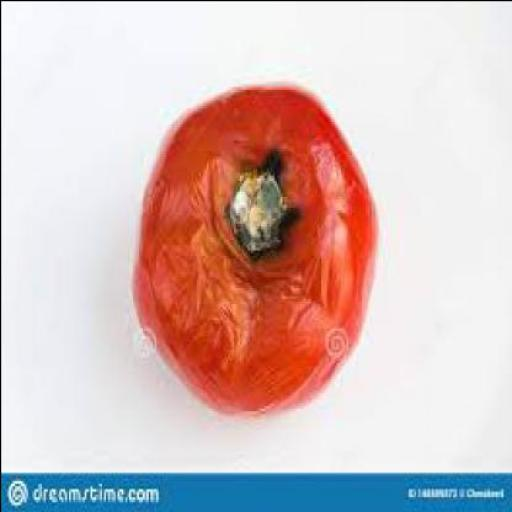biodegradable: (131, 80, 374, 410)
